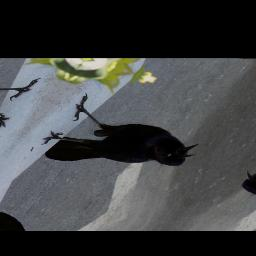Crow: (32, 92, 213, 195)
